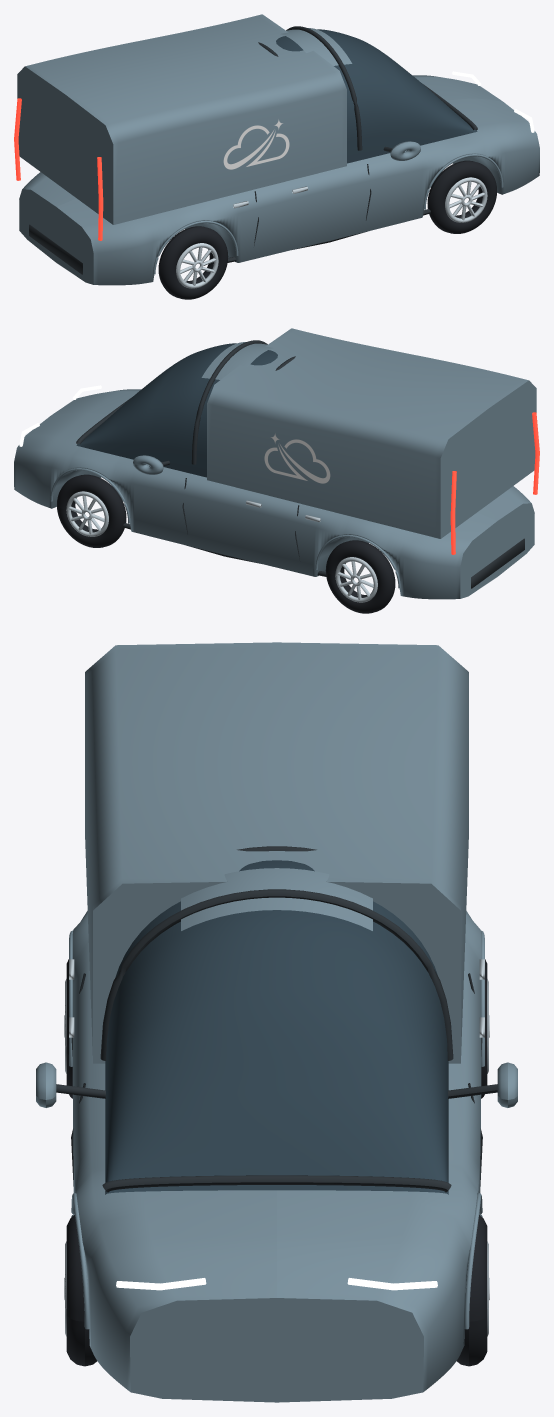
File: van.glb
3 views of the same model, one above another, from view 1: azimuth 30°, elevation 25°; view 2: azimuth 150°, elevation 25°; view 3: azimuth 270°, elevation 25° (orthographic). The views are drawn at different scales.
Visible parts, largest first — view 1: body_paint_batch_0, smoked_glass_batch_0, rubber_batch_4, rubber_batch_2, carbon_trim_batch_0, brushed_alloy_batch_2, brushed_alloy_batch_4, brand_symbol_batch_0, rear_led_batch_0; view 2: body_paint_batch_0, smoked_glass_batch_0, rubber_batch_3, rubber_batch_1, carbon_trim_batch_0, brushed_alloy_batch_1, brushed_alloy_batch_3, brand_symbol_batch_0, rear_led_batch_0; view 3: body_paint_batch_0, smoked_glass_batch_0, carbon_trim_batch_0, rubber_batch_1, rubber_batch_2, front_led_batch_0.
Boxes of the visible parts, x1,y1,x2,y2 form: body_paint_batch_0: [17, 14, 539, 285]; smoked_glass_batch_0: [276, 29, 477, 163]; rubber_batch_4: [158, 226, 228, 299]; rubber_batch_2: [427, 160, 496, 233]; carbon_trim_batch_0: [29, 26, 477, 274]; brushed_alloy_batch_2: [445, 177, 487, 222]; brushed_alloy_batch_4: [176, 243, 218, 288]; brand_symbol_batch_0: [223, 119, 289, 169]; rear_led_batch_0: [14, 98, 103, 240]; body_paint_batch_0: [14, 328, 536, 599]; smoked_glass_batch_0: [76, 343, 277, 477]; rubber_batch_3: [325, 540, 395, 613]; rubber_batch_1: [57, 474, 126, 547]; carbon_trim_batch_0: [76, 340, 524, 588]; brushed_alloy_batch_1: [66, 491, 108, 536]; brushed_alloy_batch_3: [335, 557, 377, 602]; brand_symbol_batch_0: [264, 433, 330, 483]; rear_led_batch_0: [450, 412, 539, 554]; body_paint_batch_0: [36, 642, 517, 1402]; smoked_glass_batch_0: [105, 860, 448, 1194]; carbon_trim_batch_0: [56, 846, 497, 1192]; rubber_batch_1: [457, 1215, 487, 1366]; rubber_batch_2: [66, 1215, 96, 1366]; front_led_batch_0: [116, 1278, 437, 1290].
Bounding box in the file's own units: 5.06 × 2.03 × 2.36.
8 materials, 1 textured.
